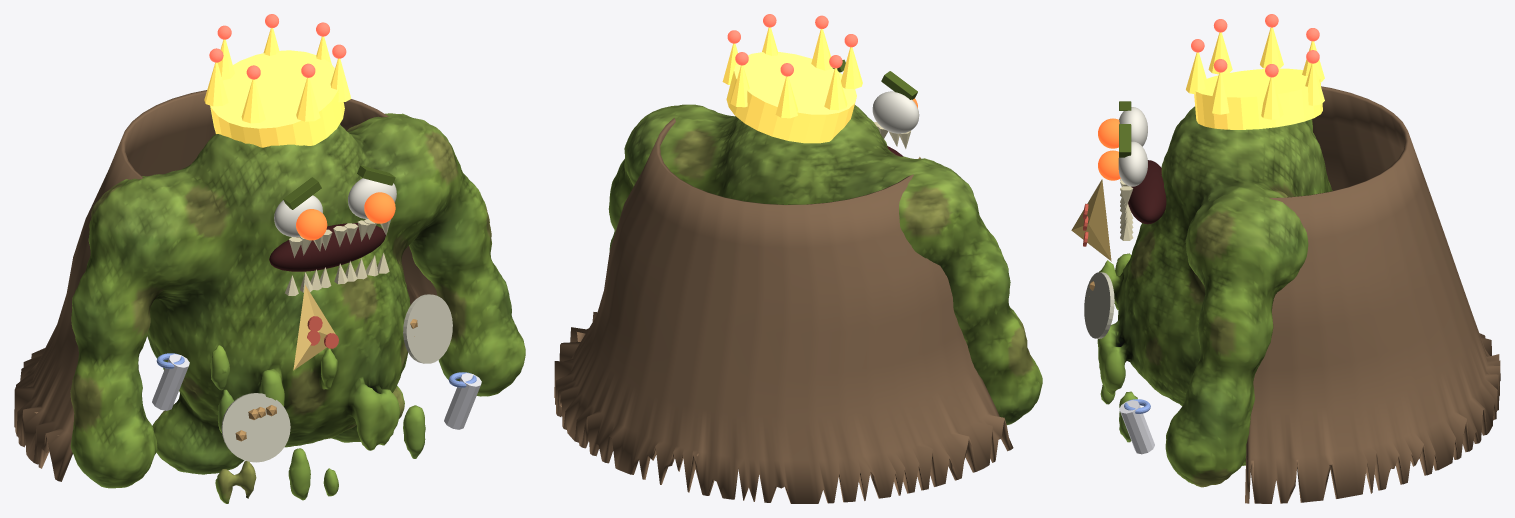
File: king.glb
The picture shows the model from 3 angles, left to right: view 1: azimuth 30°, elevation 25°; view 2: azimuth 150°, elevation 25°; view 3: azimuth 270°, elevation 25°; orthographic projection. The views are drawn at different scales.
Visible parts, largest first — view 1: body.001, Cone.026, Cylinder, Cylinder.002, Sphere.004, Cylinder.001, Cone.025, Cylinder.006, Cylinder.007, Sphere.002, Sphere, Sphere.003 (+5 smaller); view 2: Cone.026, body.001, Cylinder, Sphere, Cone.023, Cone.022, Cone.024; view 3: Cone.026, body.001, Cylinder, Cylinder.001, Sphere.004, Cone.025, Cylinder.007, Sphere.002, Sphere, Cone.020, Cone.019, Cone.023 (+4 smaller).
Boxes of the visible parts, x1,y1,x2,y2 form: body.001: [70, 113, 525, 503]; Cone.026: [14, 90, 437, 481]; Cylinder: [210, 50, 344, 147]; Cylinder.002: [221, 393, 290, 462]; Sphere.004: [269, 223, 385, 271]; Cylinder.001: [403, 294, 452, 363]; Cone.025: [293, 285, 335, 370]; Cylinder.006: [152, 354, 189, 410]; Cylinder.007: [444, 373, 481, 429]; Sphere.002: [348, 178, 396, 219]; Sphere: [274, 195, 322, 237]; Sphere.003: [364, 192, 395, 223]; Cone.026: [554, 118, 1013, 503]; body.001: [608, 104, 1042, 424]; Cylinder: [726, 52, 856, 143]; Sphere: [872, 91, 919, 133]; Cone.023: [824, 68, 847, 110]; Cone.022: [775, 76, 797, 118]; Cone.024: [841, 47, 862, 88]; Cone.026: [1245, 86, 1500, 503]; body.001: [1097, 106, 1332, 487]; Cylinder: [1194, 68, 1322, 129]; Cylinder.001: [1084, 272, 1114, 338]; Sphere.004: [1128, 160, 1166, 224]; Cone.025: [1071, 179, 1111, 261]; Cylinder.007: [1119, 400, 1154, 454]; Sphere.002: [1118, 141, 1147, 186]; Sphere: [1119, 107, 1147, 146]; Cone.020: [1261, 77, 1283, 119]; Cone.019: [1208, 72, 1229, 114]; Cone.023: [1260, 27, 1283, 68].
Bounding box in the file's own units: 3.24 × 2.83 × 2.84.
